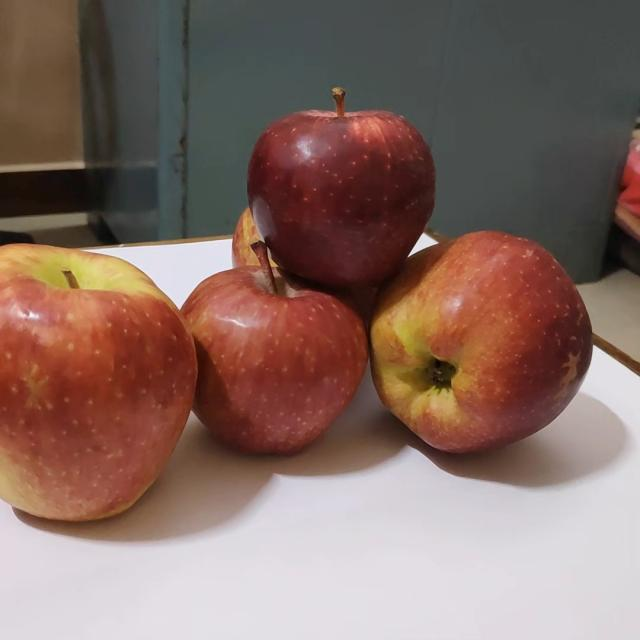apple: (353, 229, 591, 459), (1, 242, 188, 530), (235, 84, 438, 296), (172, 239, 360, 462), (225, 197, 285, 275)
